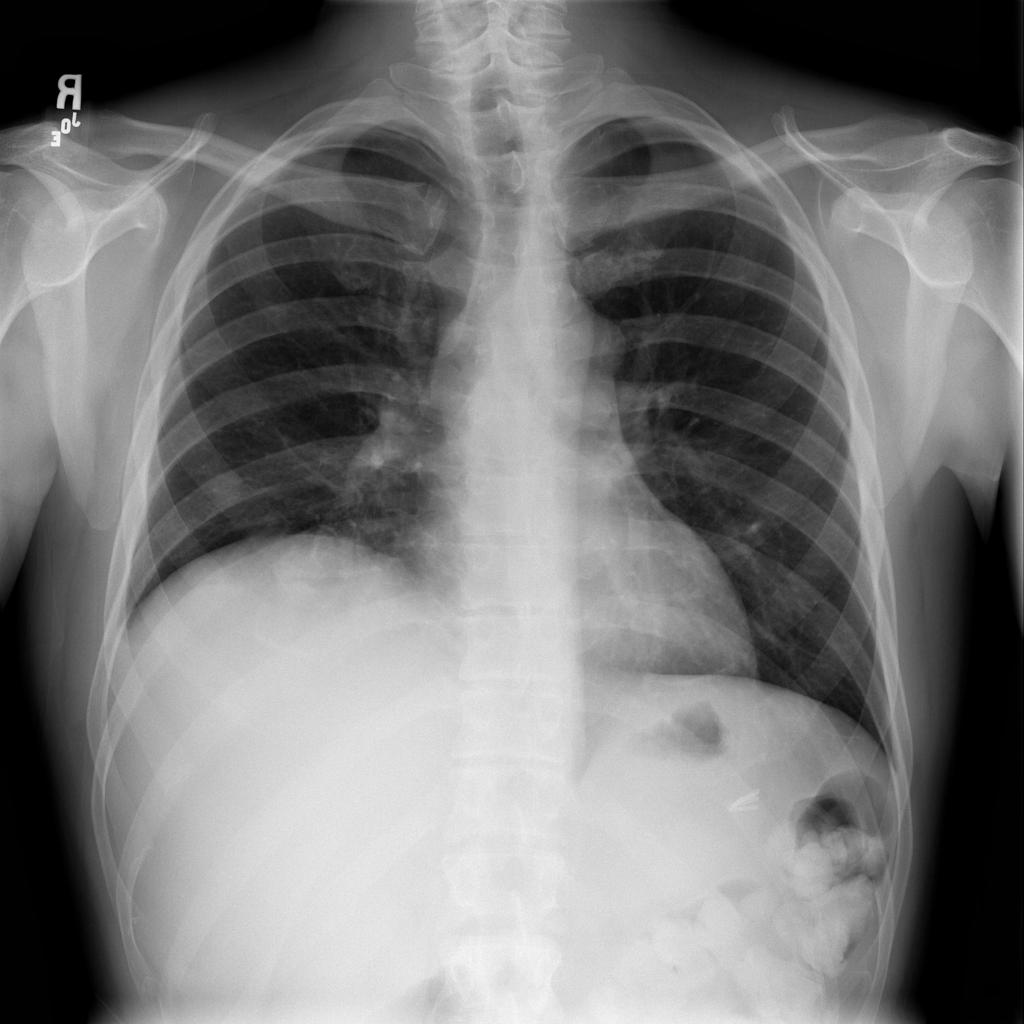nodule: (248, 515, 365, 614)
